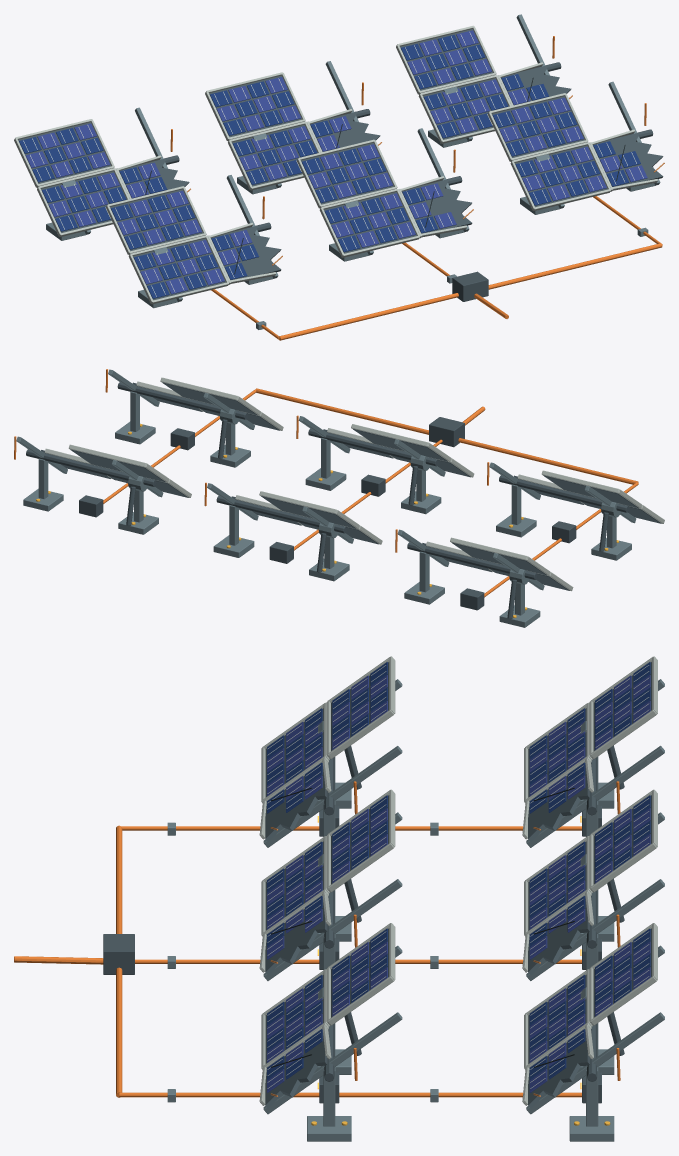
Rendered from solar_array_d2.glb.
The picture shows the model from 3 angles, top to bottom: view 1: azimuth 30°, elevation 25°; view 2: azimuth 150°, elevation 25°; view 3: azimuth 270°, elevation 25°; orthographic projection. The views are drawn at different scales.
Visible parts, largest first — view 1: COLLECTION_CABLE_TRUNK, JAGGED_PV_BACKING_002, JAGGED_PV_BACKING_001, JAGGED_PV_BACKING, PV_BACKING_007, PV_BACKING_011, PV_BACKING_005, PV_BACKING_009, PV_BACKING_003, PV_BACKING_001, JAGGED_PV_BACKING_004, PV_BACKING (+8 smaller); view 2: COLLECTION_CABLE_TRUNK, ARRAY_COMBINER_BOX, TRACKING_AXLE_004, TRACKING_AXLE_001, TRACKING_AXLE, TRACKING_AXLE_003, TRACKING_AXLE_005, TRACKING_AXLE_002, PV_BACKING_011, PV_BACKING_003, PV_BACKING_007, PV_BACKING_005 (+35 smaller); view 3: ARRAY_COLLECTION_CABLE_002, COLLECTION_CABLE_TRUNK, ARRAY_COLLECTION_CABLE, ARRAY_COLLECTION_CABLE_001, JAGGED_PV_BACKING, JAGGED_PV_BACKING_002, JAGGED_PV_BACKING_001, JAGGED_PV_BACKING_004, JAGGED_PV_BACKING_003, JAGGED_PV_BACKING_005, ARRAY_COMBINER_BOX, REAR_MOUNTING_RAIL_005 (+7 smaller).
Part boxes in pixels (x1,y1,x2,y2): COLLECTION_CABLE_TRUNK: [279, 243, 662, 340]; JAGGED_PV_BACKING_002: [593, 132, 663, 186]; JAGGED_PV_BACKING_001: [402, 178, 472, 233]; JAGGED_PV_BACKING: [211, 225, 281, 280]; PV_BACKING_007: [18, 122, 110, 183]; PV_BACKING_011: [400, 29, 492, 90]; PV_BACKING_005: [492, 96, 584, 157]; PV_BACKING_009: [209, 75, 301, 137]; PV_BACKING_003: [301, 142, 393, 204]; PV_BACKING_001: [110, 189, 203, 251]; JAGGED_PV_BACKING_004: [310, 111, 380, 151]; PV_BACKING: [133, 238, 225, 300]; COLLECTION_CABLE_TRUNK: [255, 388, 638, 484]; ARRAY_COMBINER_BOX: [429, 417, 464, 447]; TRACKING_AXLE_004: [216, 496, 346, 533]; TRACKING_AXLE_001: [308, 428, 438, 466]; TRACKING_AXLE: [499, 475, 629, 512]; TRACKING_AXLE_003: [407, 542, 537, 579]; TRACKING_AXLE_005: [26, 449, 156, 486]; TRACKING_AXLE_002: [117, 382, 247, 419]; PV_BACKING_011: [70, 449, 165, 482]; PV_BACKING_003: [353, 429, 447, 461]; PV_BACKING_007: [451, 542, 546, 575]; PV_BACKING_005: [162, 382, 257, 414]; ARRAY_COLLECTION_CABLE_002: [119, 1092, 581, 1097]; COLLECTION_CABLE_TRUNK: [116, 825, 122, 1097]; ARRAY_COLLECTION_CABLE: [121, 826, 581, 830]; ARRAY_COLLECTION_CABLE_001: [135, 959, 581, 963]; JAGGED_PV_BACKING: [265, 766, 327, 842]; JAGGED_PV_BACKING_002: [265, 1032, 327, 1108]; JAGGED_PV_BACKING_001: [265, 899, 327, 975]; JAGGED_PV_BACKING_004: [528, 898, 589, 975]; JAGGED_PV_BACKING_003: [528, 765, 589, 841]; JAGGED_PV_BACKING_005: [528, 1031, 589, 1108]; ARRAY_COMBINER_BOX: [103, 934, 134, 974]; REAR_MOUNTING_RAIL_005: [263, 1012, 402, 1114].
Bounding box in the file's own units: 16.57 × 2.59 × 12.39.
